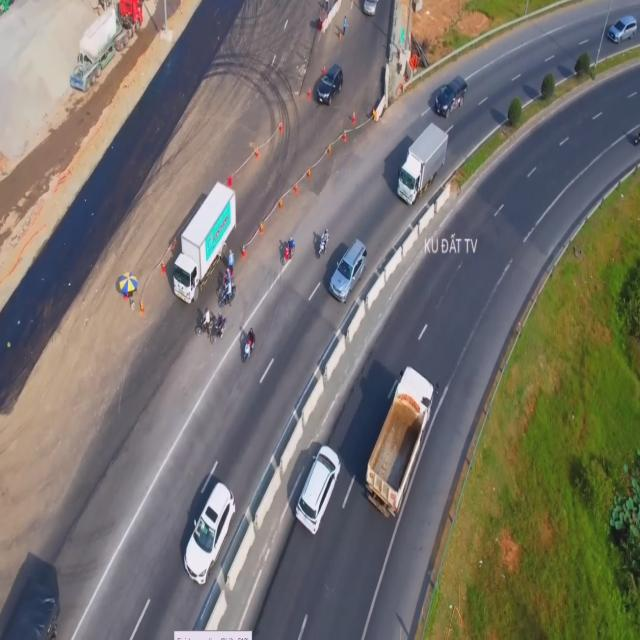car: (183, 484, 232, 584), (299, 442, 338, 534), (329, 236, 367, 302), (315, 61, 345, 110), (436, 78, 466, 115), (608, 15, 636, 48), (364, 1, 380, 16)
motorbike: (196, 312, 216, 337), (218, 283, 238, 306), (210, 317, 226, 344), (242, 324, 255, 356), (282, 238, 295, 265), (316, 228, 326, 259)
truck: (362, 363, 433, 516), (172, 179, 235, 298), (0, 557, 59, 640), (393, 124, 448, 203)
